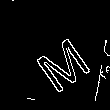M_NW: (22, 21, 88, 89)
